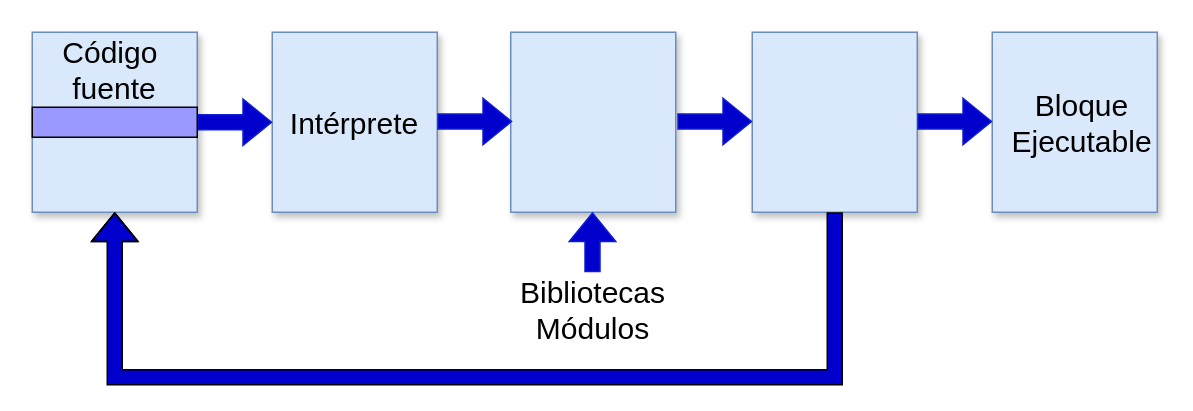
This 1193x411 diagram has some shape labels left out. The centre of each missing label's shape, as x and y in pixels:
"Byte Code" belongs at (594,124).
"Máquina Virtual" belongs at (835,124).
